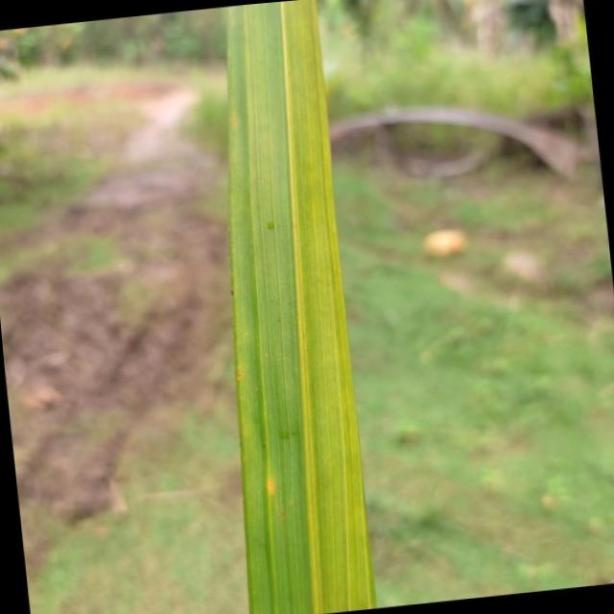nitrogen: (219, 0, 376, 614)
